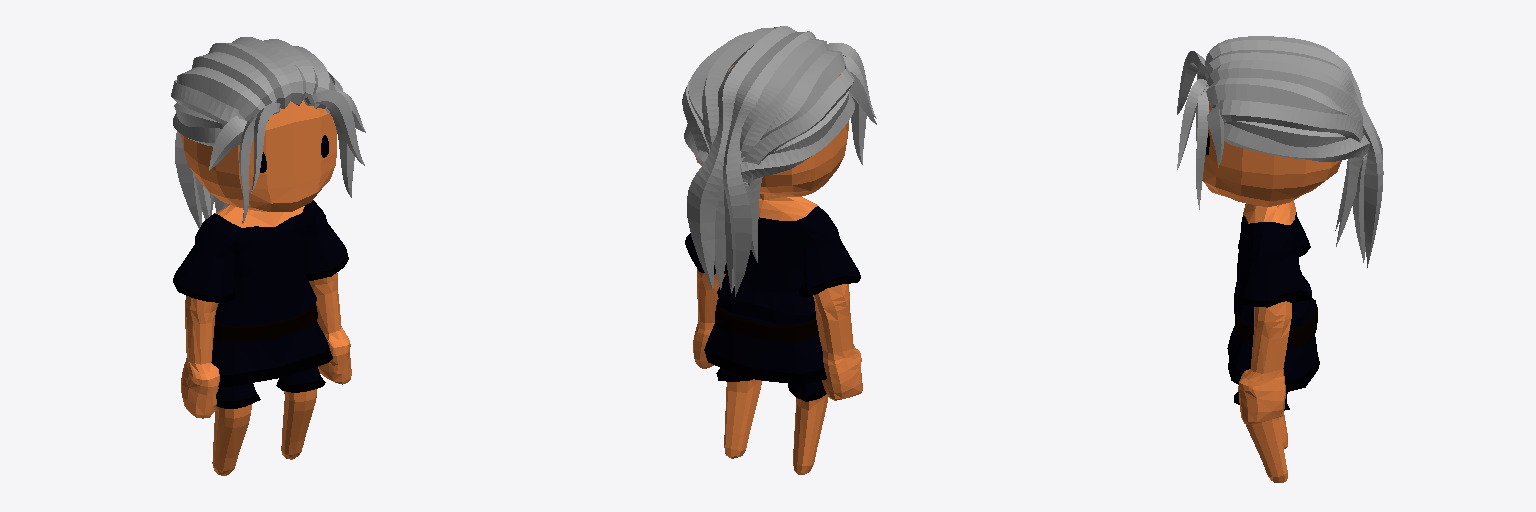
The model's file is lidi.obj.
The picture shows the model from 3 angles: view 1: azimuth 30°, elevation 25°; view 2: azimuth 150°, elevation 25°; view 3: azimuth 270°, elevation 25°; orthographic projection.
Visible parts, largest first — view 1: Body; view 2: Body; view 3: Body.
Boxes of the visible parts, x1,y1,x2,y2 form: Body: [171, 37, 365, 475]; Body: [682, 26, 876, 474]; Body: [1177, 36, 1383, 482].
Bounding box in the file's own units: 1.34 × 3.17 × 1.42.